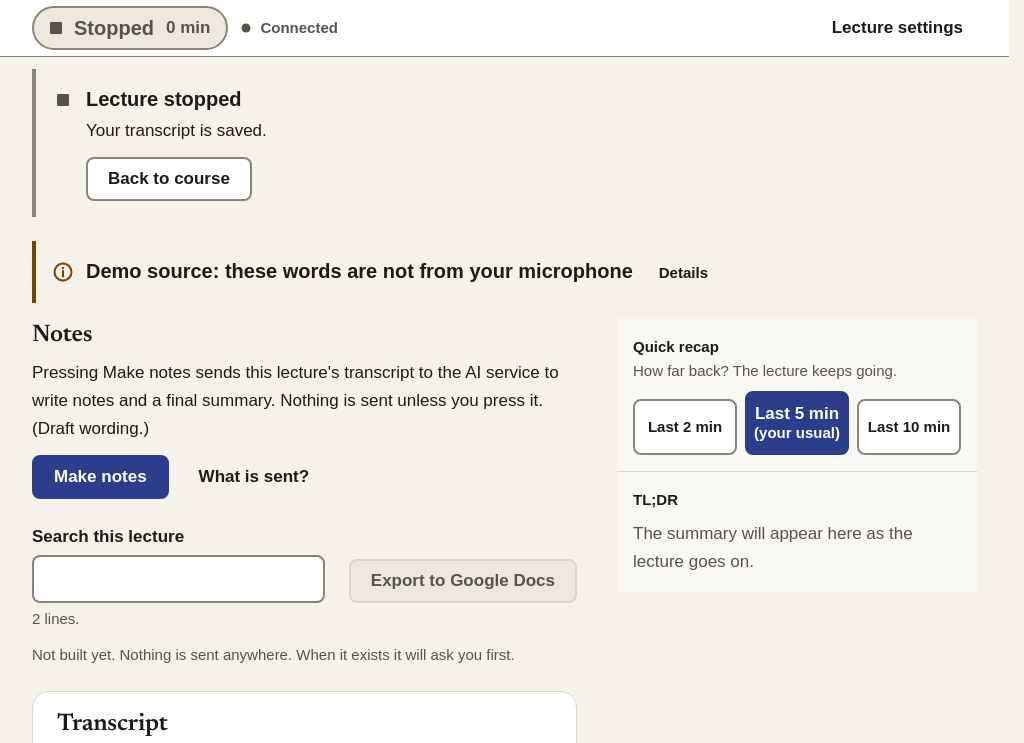
Test: the press (1.5, AC3, AC4) › Unavailable: the sentence as a note-notice above the button, which is offered again; a new press takes a NEW key
Click the button "Make notes" at (100, 477), box [32,455,169,499]
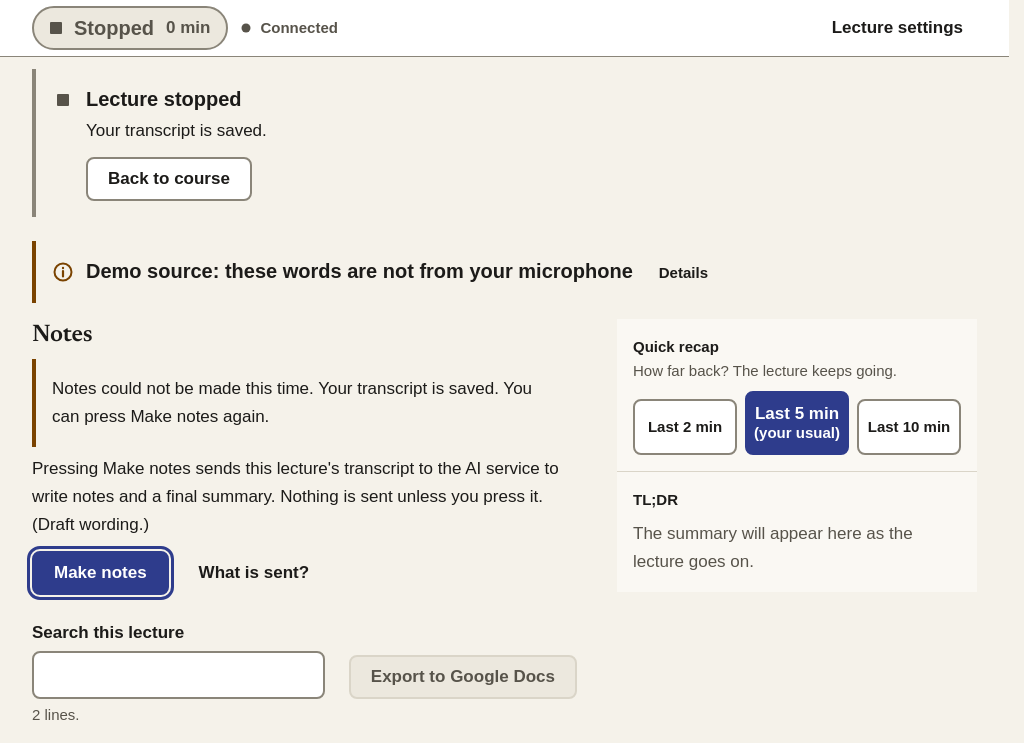
Expected: the element with test id "notes-status" shows "Notes could not be made this time. Your transcript is saved. You can press Make notes again.", [52,379,532,426]
Click the button "Make notes" at (100, 573), box [32,551,169,595]
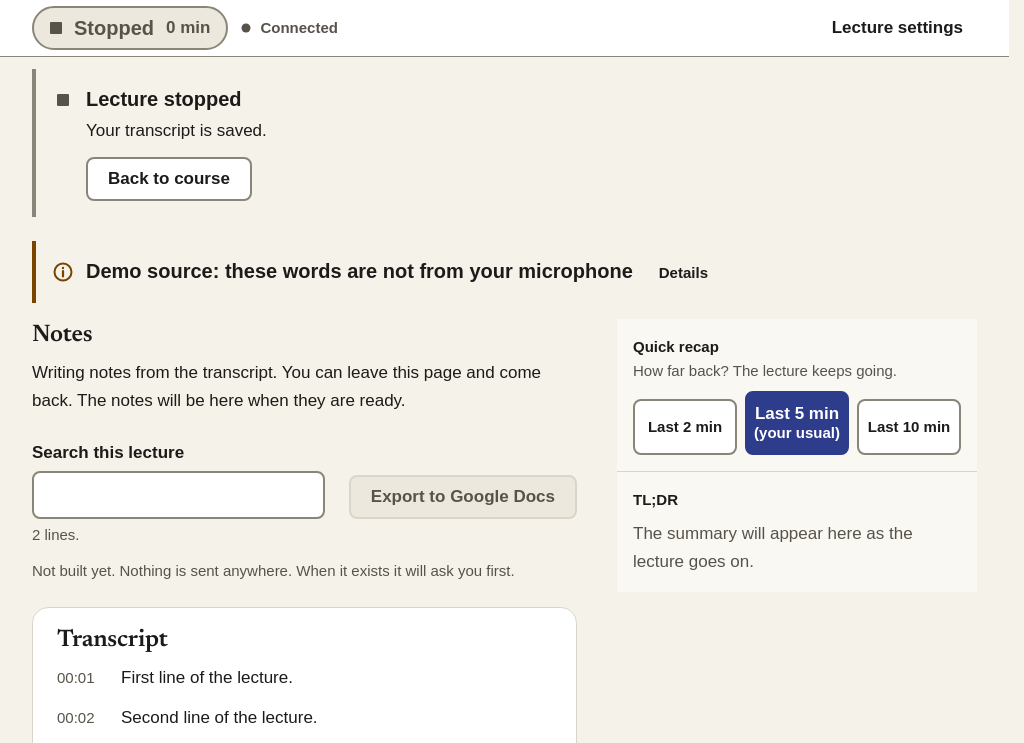
Expected: the text with test id "notes-pending" is shown, [32,359,577,415]
